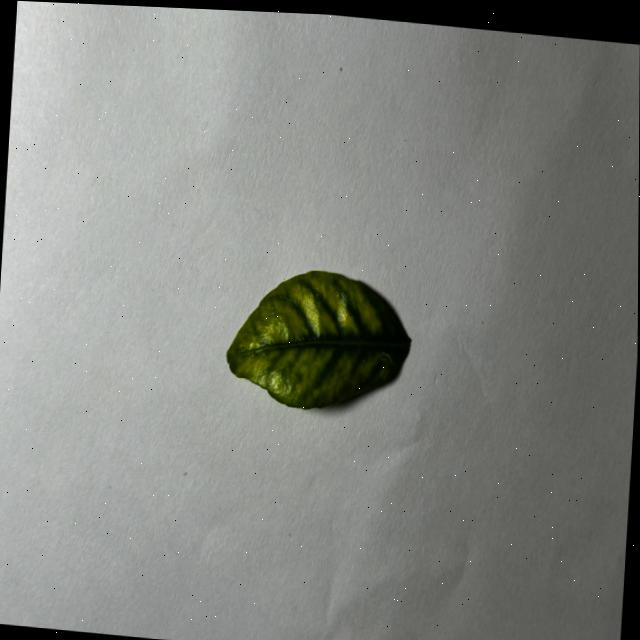greening: (226, 271, 409, 409)
